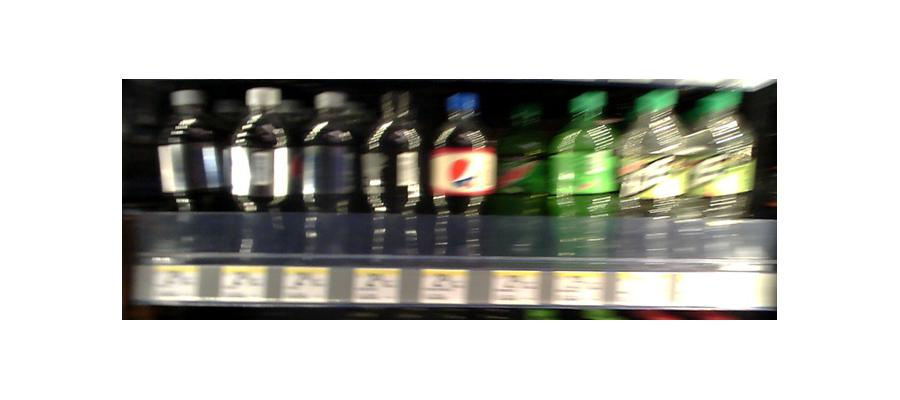bottle: (158, 87, 238, 258), (227, 83, 293, 262), (552, 88, 618, 261), (430, 87, 492, 260), (364, 86, 424, 258), (629, 91, 690, 259), (305, 86, 361, 258), (696, 82, 756, 241), (496, 117, 546, 263)
